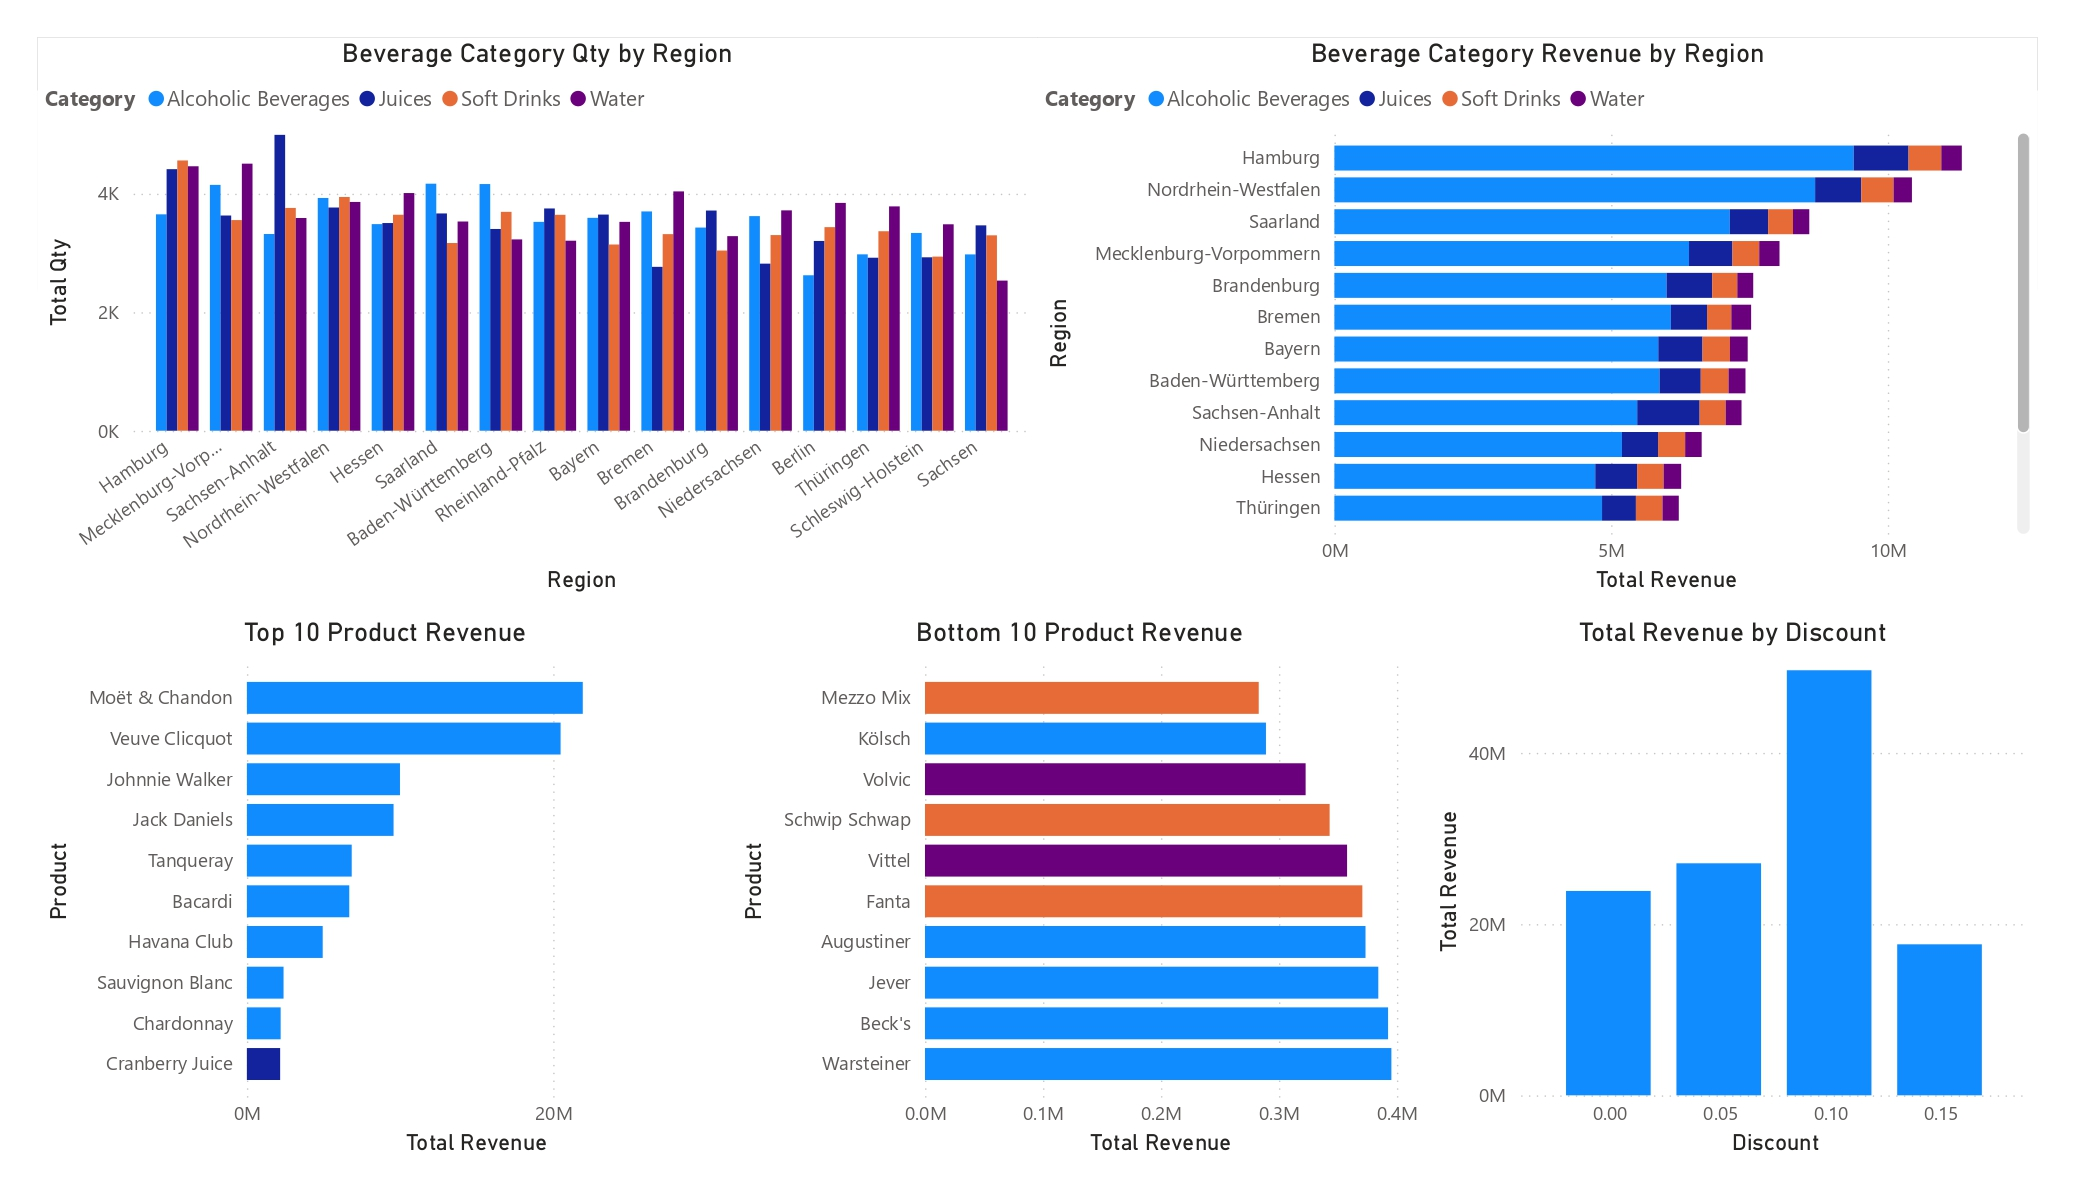

Layout of this report page (visuals, bound fields, positions):
{"tool":"powerbi","page":{"name":"Page 1","canvas":[1280,720],"ordinal":0},"visuals":[{"type":"clusteredColumnChart","title":"Beverage Category Qty by Region","fields":{"Category":["clean_beverage_sales.Region"],"Series":["clean_beverage_sales.Category"],"Y":["Sum(clean_beverage_sales.Quantity)"]},"box":[0,0,640.2,360],"z":0},{"type":"clusteredBarChart","title":"Top 10 Product Revenue","fields":{"Category":["clean_beverage_sales.Product"],"Y":["Sum(clean_beverage_sales.Total_Price)"]},"box":[0,369.7,444.7,350.7],"z":1000},{"type":"clusteredBarChart","title":"Bottom 10 Product Revenue","fields":{"Category":["clean_beverage_sales.Product"],"Y":["Sum(clean_beverage_sales.Total_Price)"]},"box":[444.7,369.7,444.7,350.7],"z":2000},{"type":"columnChart","title":"Total Revenue by Discount","fields":{"Category":["clean_beverage_sales.Discount"],"Y":["Sum(clean_beverage_sales.Total_Price)"]},"box":[890,370,390,350],"z":3000},{"type":"barChart","title":"Beverage Category Revenue by Region","fields":{"Category":["clean_beverage_sales.Region"],"Series":["clean_beverage_sales.Category"],"Y":["Sum(clean_beverage_sales.Total_Price)"]},"box":[640.2,0,640.2,360],"z":3001}]}

Visuals, with their boxes on the page's 1280x720 design canvas (x1, y1, x2, y2). These are canvas units, not pixel positions in the 2075x1200 screenshot, which may show the page scaled, cropped or inside an application window:
"Beverage Category Qty by Region" clusteredColumnChart: rect(0, 0, 640, 360)
"Top 10 Product Revenue" clusteredBarChart: rect(0, 370, 445, 720)
"Bottom 10 Product Revenue" clusteredBarChart: rect(445, 370, 889, 720)
"Total Revenue by Discount" columnChart: rect(890, 370, 1280, 720)
"Beverage Category Revenue by Region" barChart: rect(640, 0, 1280, 360)
